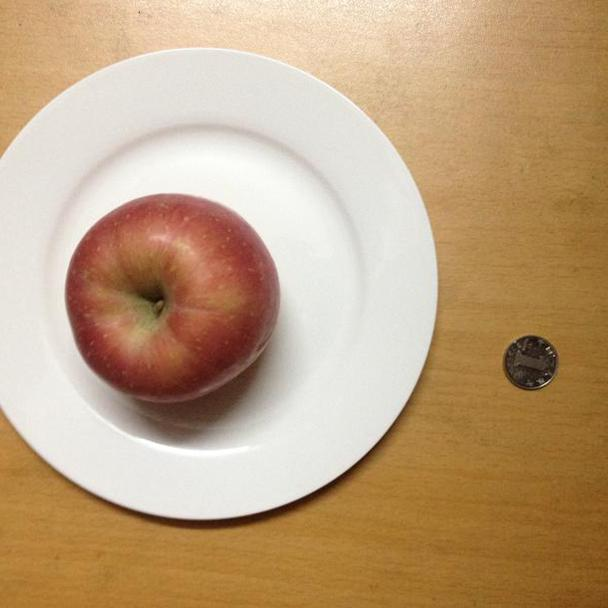apple: (66, 192, 280, 403)
